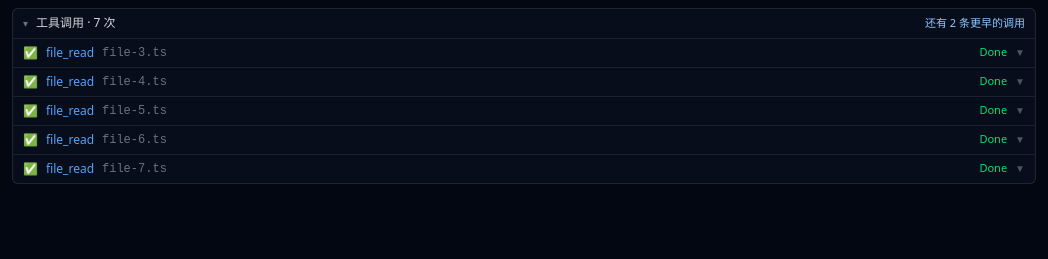
ToolCallTimeline › 超过 5 条时默认只显示最近 5 条，可展开全部
Expected: the text "file-1.ts" is not shown
Expected: the text "file-2.ts" is not shown
Click the button "还有 2 条更早的调用" at (975, 23), box [925, 15, 1025, 32]
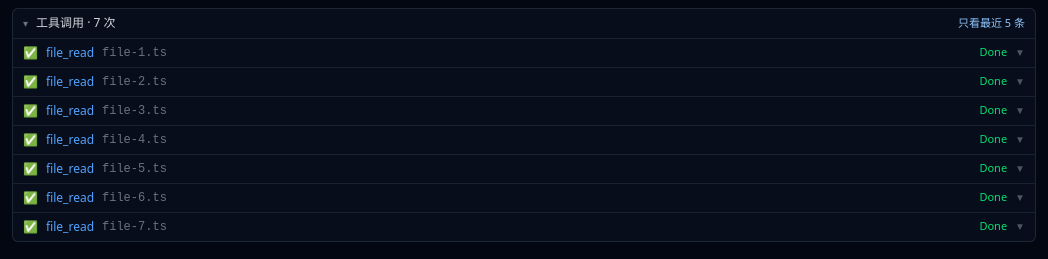
Result: the text "file-1.ts" is shown at [102, 46, 167, 60]
Result: the text "file-2.ts" is shown at [102, 74, 167, 88]
Result: the button "只看最近 5 条" is shown at [958, 15, 1025, 32]
